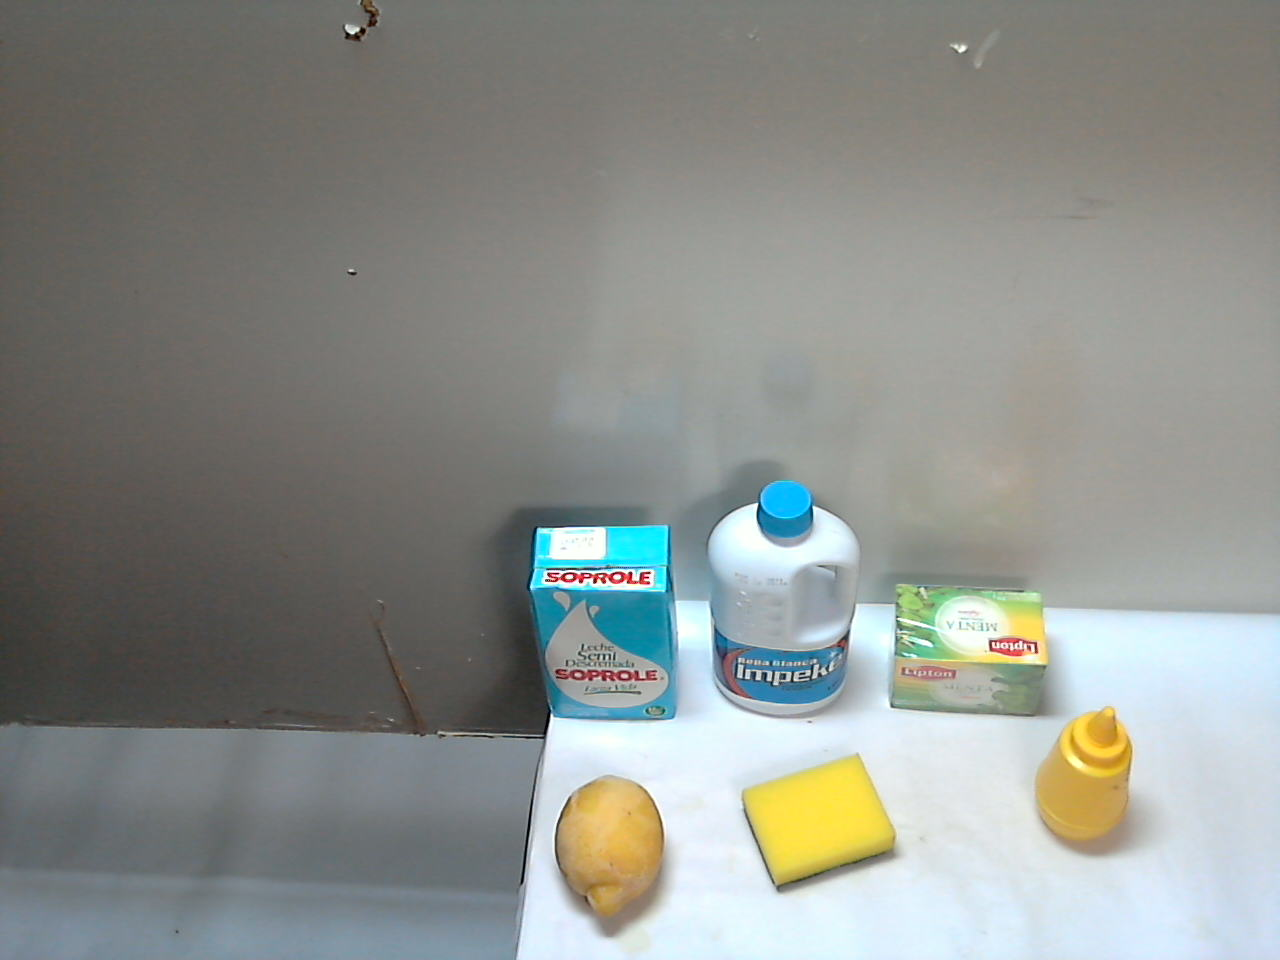cafe: (482, 578, 633, 773)
crema: (774, 623, 874, 760)
esponja: (703, 776, 833, 926)
greda: (445, 745, 694, 960)
mantequilla: (636, 647, 780, 741)
platoperro: (827, 698, 1165, 960)
